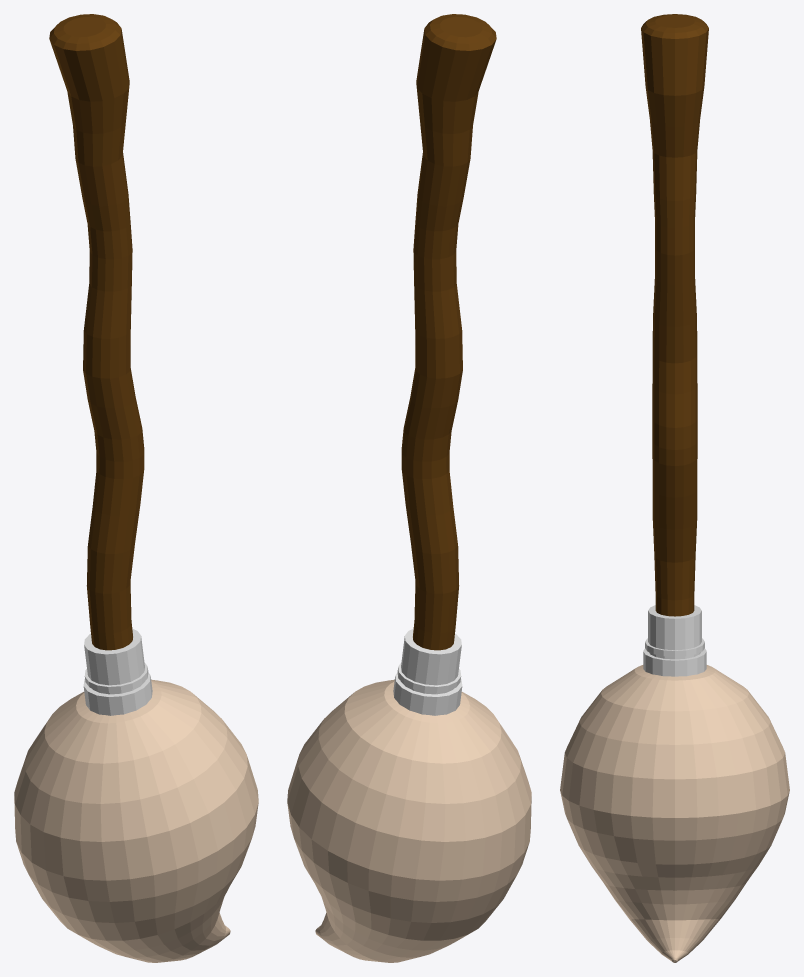
Rendered from BPW_Broom.fbx.
The picture shows the model from 3 angles, left to right: view 1: azimuth 30°, elevation 25°; view 2: azimuth 150°, elevation 25°; view 3: azimuth 270°, elevation 25°; orthographic projection. The views are drawn at different scales.
Parts seen in each view (by area): view 1: Cone, Cylinder, Cylinder.002; view 2: Cone, Cylinder, Cylinder.002; view 3: Cone, Cylinder, Cylinder.002.
Boxes of the visible parts, x1,y1,x2,y2 form: Cone: (14,679,258,962); Cylinder: (49,14,144,650); Cylinder.002: (83,628,152,715); Cone: (287,679,531,962); Cylinder: (401,14,496,650); Cylinder.002: (393,628,462,715); Cone: (560,665,789,962); Cylinder: (641,14,708,616); Cylinder.002: (643,605,706,676).
Bounding box in the file's own units: 167 × 719 × 169.
